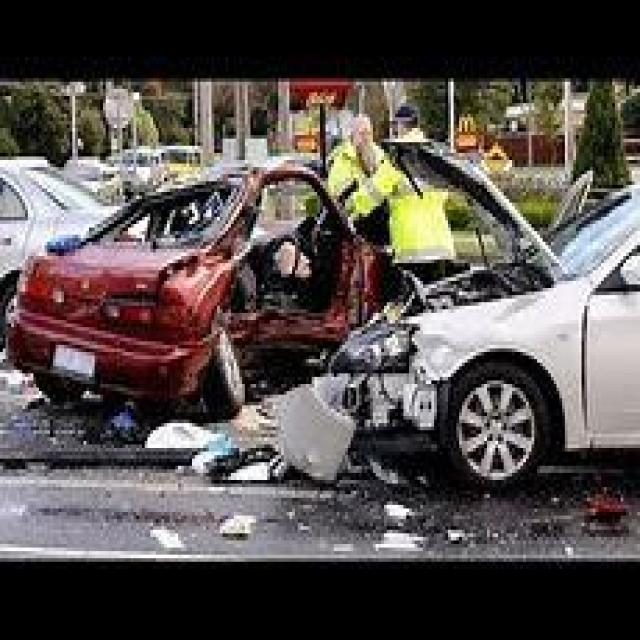Nguy hiểm: (22, 137, 640, 496)
